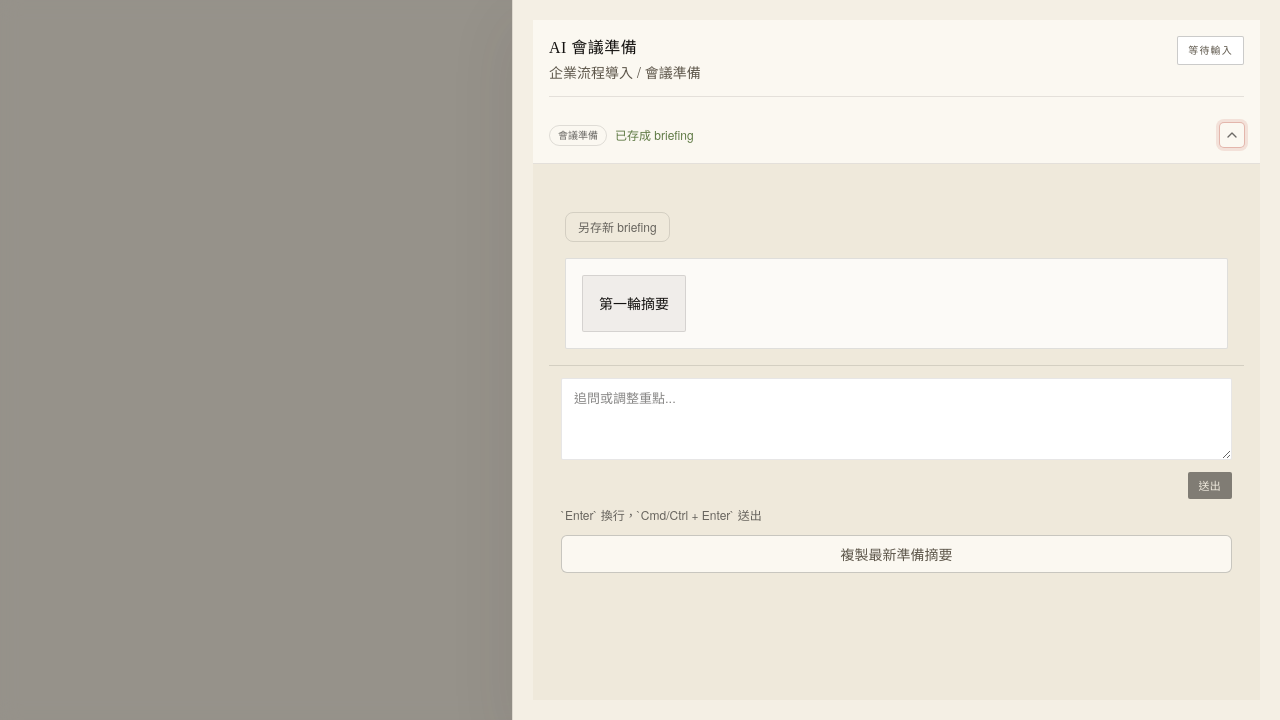
Test: CrmAiPanel › auto-starts the first briefing turn when the panel opens and uses continue for follow-ups
Expected: the text "第一輪摘要" is shown, [599,292,669,315]
Type "請再補充客戶痛點" into the text box with placeholder "追問或調整重點..." at (896, 419), box [561,378,1232,460]
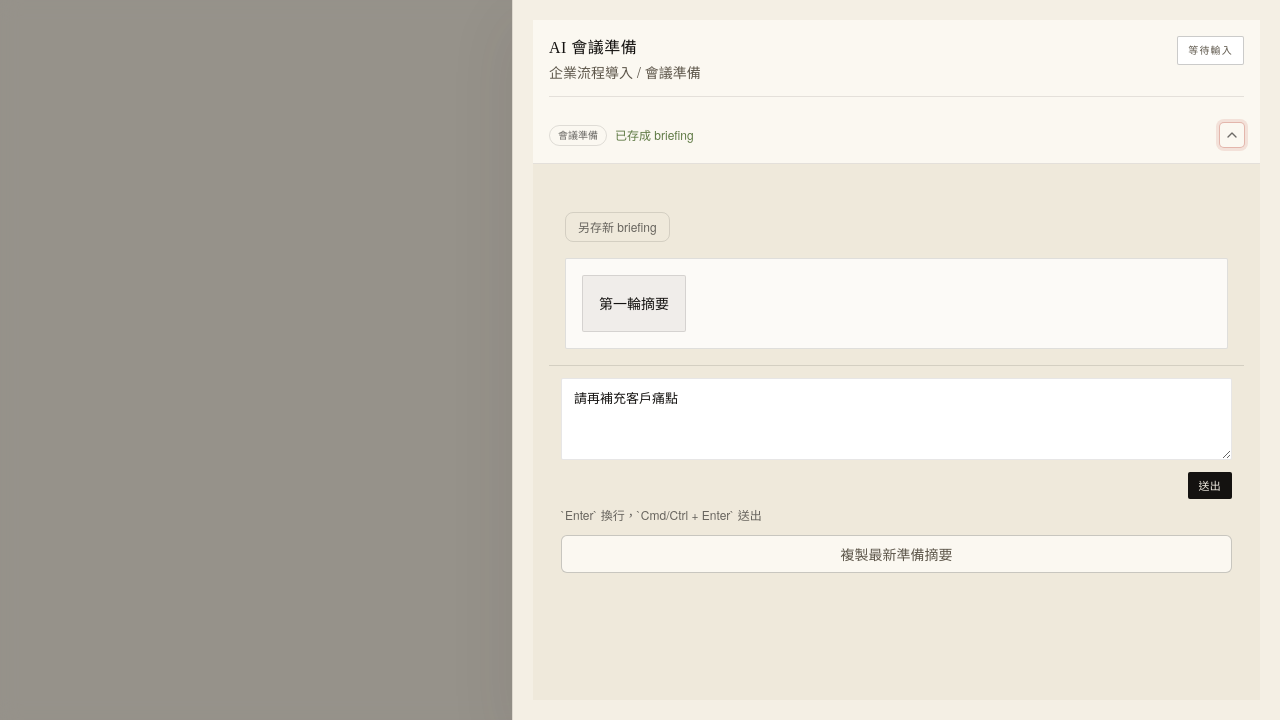
Click the button "送出" at (1210, 485), box [1188,472,1232,499]
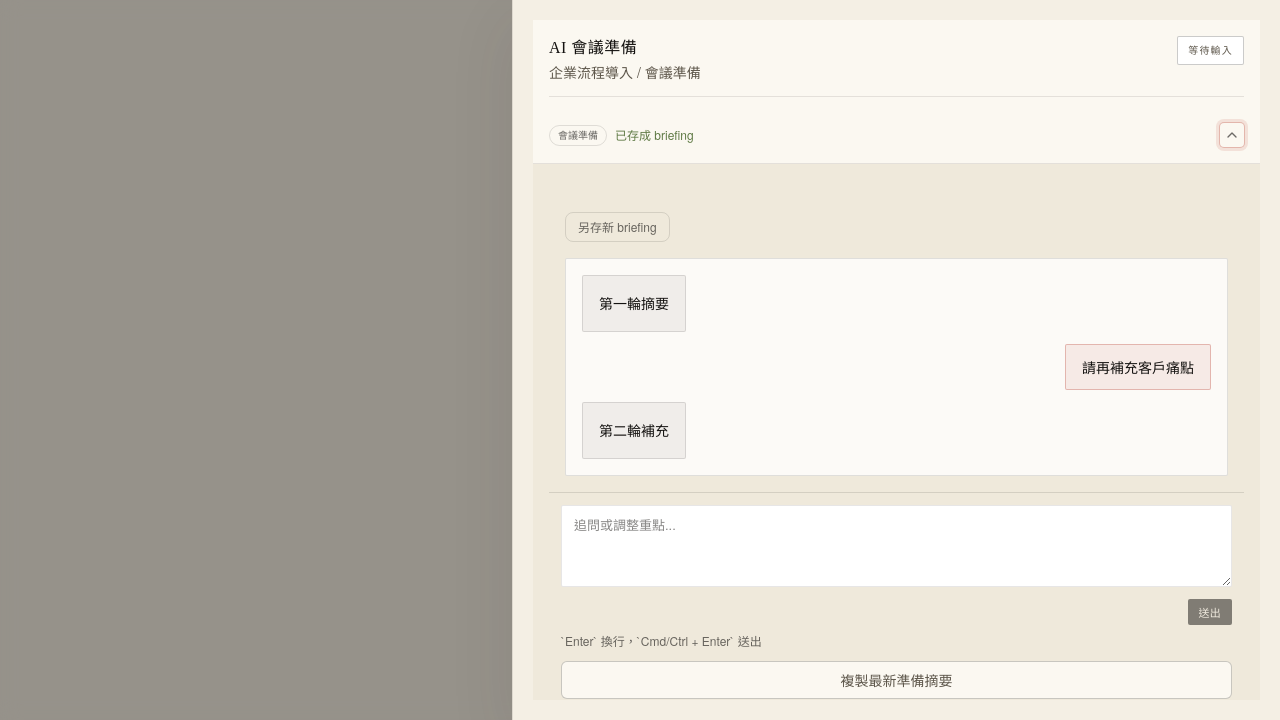
Result: the text "第二輪補充" is shown at [599,419,669,442]
